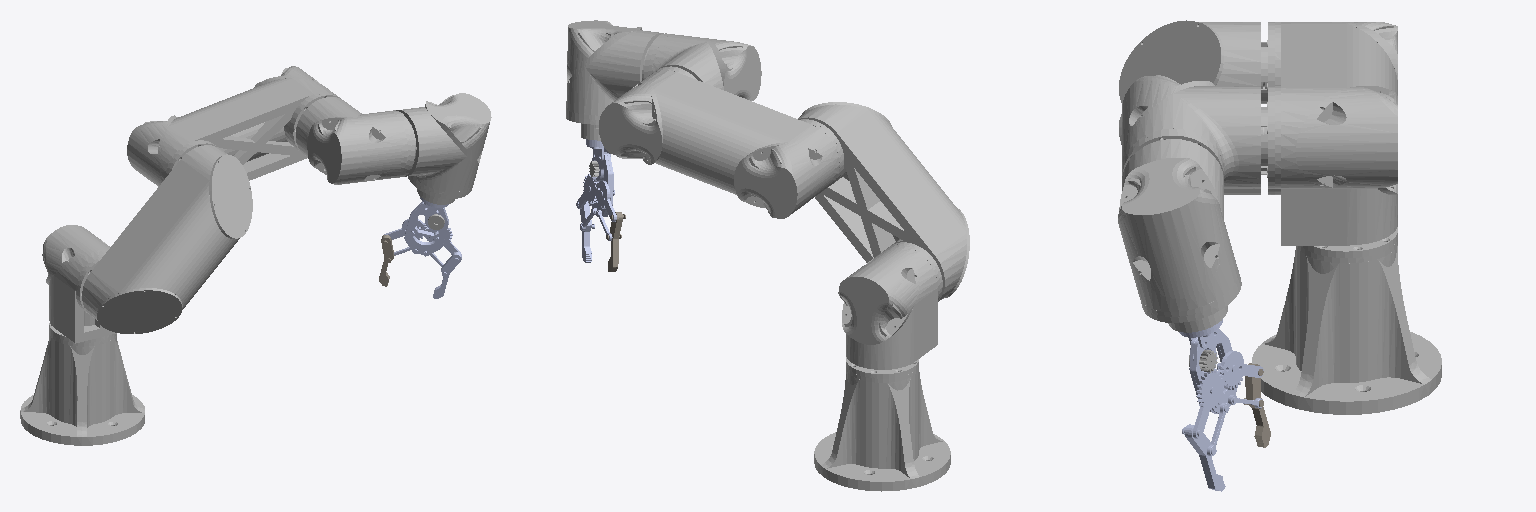
URDF robot description (robot):
<?xml version="1.0" encoding="utf-8"?>
<!-- This URDF was automatically created by SolidWorks to URDF Exporter! Originally created by [author] ([email redacted]) 
     Commit Version: 1.6.0-1-g15f4949  Build Version: 1.6.7594.29634
     For more information, please see http://wiki.ros.org/sw_urdf_exporter -->
<robot name="robot">

  <!-- ======================================================================== -->
  <!-- 1. THÊM LINK WORLD ĐỂ CỐ ĐỊNH ROBOT                                      -->
  <!-- ======================================================================== -->
  <link name="world"/>

  <joint name="world_joint" type="fixed">
    <parent link="world"/>
    <child link="base_link"/>
    <origin xyz="0 0 0" rpy="0 0 0"/>
  </joint>

  <!-- ======================================================================== -->
  <!-- 2. CÁC LINK VÀ JOINT CỦA ROBOT (GIỮ NGUYÊN TỪ SOLIDWORKS)                -->
  <!-- ======================================================================== -->
  <link name="base_link">
    <inertial>
      <origin xyz="6.6779E-08 1.1711E-07 0.051416" rpy="0 0 0" />
      <mass value="0.35438" />
      <inertia ixx="0.00044121" ixy="-5.4847E-09" ixz="2.2395E-10" iyy="0.00044121" iyz="3.7442E-10" izz="0.0004697" />
    </inertial>
    <visual>
      <origin xyz="0 0 0" rpy="0 0 0" />
      <geometry>
        <mesh filename="package://my_arm_robot/meshes/base_link.STL" />
      </geometry>
      <material name="">
        <color rgba="0.75294 0.75294 0.75294 1" />
      </material>
    </visual>
    <collision>
      <origin xyz="0 0 0" rpy="0 0 0" />
      <geometry>
        <mesh filename="package://my_arm_robot/meshes/base_link.STL" />
      </geometry>
    </collision>
  </link>

  <link name="Link_1">
    <inertial>
      <origin xyz="-2.7456E-07 -0.019979 0.049934" rpy="0 0 0" />
      <mass value="0.29405" />
      <inertia ixx="0.00018379" ixy="-7.5691E-10" ixz="-2.3852E-11" iyy="0.00020053" iyz="2.2396E-05" izz="0.0002036" />
    </inertial>
    <visual>
      <origin xyz="0 0 0" rpy="0 0 0" />
      <geometry>
        <mesh filename="package://my_arm_robot/meshes/Link_1.STL" />
      </geometry>
      <material name="">
        <color rgba="0.75294 0.75294 0.75294 1" />
      </material>
    </visual>
    <collision>
      <origin xyz="0 0 0" rpy="0 0 0" />
      <geometry>
        <mesh filename="package://my_arm_robot/meshes/Link_1.STL" />
      </geometry>
    </collision>
  </link>

  <joint name="Link_1_joint" type="revolute">
    <origin xyz="0 0 0.109" rpy="0 0 0" />
    <parent link="base_link" />
    <child link="Link_1" />
    <axis xyz="0 0 1" />
    <limit lower="-3.14" upper="3.14" effort="100" velocity="0" />
  </joint>

  <link name="Link_2">
    <inertial>
      <origin xyz="0.064128 -0.066552 0.004546" rpy="0 0 0" />
      <mass value="0.56692" />
      <inertia ixx="0.0010005" ixy="0.00048662" ixz="2.4422E-10" iyy="0.00096441" iyz="1.0158E-10" izz="0.0015033" />
    </inertial>
    <visual>
      <origin xyz="0 0 0" rpy="0 0 0" />
      <geometry>
        <mesh filename="package://my_arm_robot/meshes/Link_2.STL" />
      </geometry>
      <material name="">
        <color rgba="0.75294 0.75294 0.75294 1" />
      </material>
    </visual>
    <collision>
      <origin xyz="0 0 0" rpy="0 0 0" />
      <geometry>
        <mesh filename="package://my_arm_robot/meshes/Link_2.STL" />
      </geometry>
    </collision>
  </link>

  <joint name="Link_2_joint" type="revolute">
    <origin xyz="0 -0.0715 0.0645" rpy="1.5708 -1.5708 0" />
    <parent link="Link_1" />
    <child link="Link_2" />
    <axis xyz="0 0 -1" />
    <limit lower="-1.57" upper="1.57" effort="100" velocity="0" />
  </joint>

  <link name="Link_3">
    <inertial>
      <origin xyz="0.074283 -0.010346 0.058914" rpy="0 0 0" />
      <mass value="0.28134" />
      <inertia ixx="0.00031192" ixy="4.1644E-05" ixz="-2.3689E-09" iyy="0.00060517" iyz="-9.6672E-09" izz="0.00065885" />
    </inertial>
    <visual>
      <origin xyz="0 0 0" rpy="0 0 0" />
      <geometry>
        <mesh filename="package://my_arm_robot/meshes/Link_3.STL" />
      </geometry>
      <material name="">
        <color rgba="0.75294 0.75294 0.75294 1" />
      </material>
    </visual>
    <collision>
      <origin xyz="0 0 0" rpy="0 0 0" />
      <geometry>
        <mesh filename="package://my_arm_robot/meshes/Link_3.STL" />
      </geometry>
    </collision>
  </link>

  <joint name="Link_3_joint" type="revolute">
    <origin xyz="0.10408 -0.10802 0" rpy="-3.1416 0 -1.5708" />
    <parent link="Link_2" />
    <child link="Link_3" />
    <axis xyz="0 0 1" />
    <limit lower="-2.5" upper="2.5" effort="100" velocity="0" />
  </joint>

  <link name="Link_4">
    <inertial>
      <origin xyz="0.0012985 -0.00015327 -0.0071039" rpy="0 0 0" />
      <mass value="0.24763" />
      <inertia ixx="0.0001477" ixy="-4.322E-07" ixz="-2.5263E-05" iyy="0.00014409" iyz="2.9843E-06" izz="0.00015439" />
    </inertial>
    <visual>
      <origin xyz="0 0 0" rpy="0 0 0" />
      <geometry>
        <mesh filename="package://my_arm_robot/meshes/Link_4.STL" />
      </geometry>
      <material name="">
        <color rgba="0.75294 0.75294 0.75294 1" />
      </material>
    </visual>
    <collision>
      <origin xyz="0 0 0" rpy="0 0 0" />
      <geometry>
        <mesh filename="package://my_arm_robot/meshes/Link_4.STL" />
      </geometry>
    </collision>
  </link>

  <joint name="Link_4_joint" type="revolute">
    <origin xyz="0.14857 -0.020684 0" rpy="3.1416 0 0" />
    <parent link="Link_3" />
    <child link="Link_4" />
    <axis xyz="0 0 -1" />
    <limit lower="-3.14" upper="3.14" effort="100" velocity="0" />
  </joint>

  <link name="Link_5">
    <inertial>
      <origin xyz="0.0013072 1.0291E-07 -0.0071052" rpy="0 0 0" />
      <mass value="0.24762" />
      <inertia ixx="0.00014775" ixy="5.8014E-10" ixz="-2.5434E-05" iyy="0.00014403" iyz="7.31E-10" izz="0.00015439" />
    </inertial>
    <visual>
      <origin xyz="0 0 0" rpy="0 0 0" />
      <geometry>
        <mesh filename="package://my_arm_robot/meshes/Link_5.STL" />
      </geometry>
      <material name="">
        <color rgba="0.75294 0.75294 0.75294 1" />
      </material>
    </visual>
    <collision>
      <origin xyz="0 0 0" rpy="0 0 0" />
      <geometry>
        <mesh filename="package://my_arm_robot/meshes/Link_5.STL" />
      </geometry>
    </collision>
  </link>

  <joint name="Link_5_joint" type="revolute">
    <origin xyz="0.071006 -0.008387 0.047" rpy="-1.5708 0.23999 -1.6884" />
    <parent link="Link_4" />
    <child link="Link_5" />
    <axis xyz="0 0 -1" />
    <limit lower="-2" upper="2" effort="100" velocity="0" />
  </joint>

  <link name="Link_6">
    <inertial>
      <origin xyz="-1.5424E-08 -3.6987E-07 -0.037505" rpy="0 0 0" />
      <mass value="0.13168" />
      <inertia ixx="4.0898E-05" ixy="-6.0382E-10" ixz="-2.0928E-11" iyy="4.0886E-05" iyz="-4.3595E-10" izz="4.6676E-05" />
    </inertial>
    <visual>
      <origin xyz="0 0 0" rpy="0 0 0" />
      <geometry>
        <mesh filename="package://my_arm_robot/meshes/Link_6.STL" />
      </geometry>
      <material name="">
        <color rgba="0.75294 0.75294 0.75294 1" />
      </material>
    </visual>
    <collision>
      <origin xyz="0 0 0" rpy="0 0 0" />
      <geometry>
        <mesh filename="package://my_arm_robot/meshes/Link_6.STL" />
      </geometry>
    </collision>
  </link>

  <joint name="Link_6_joint" type="revolute">
    <origin xyz="0.0715 0 0.047" rpy="1.5708 -0.54029 1.5708" />
    <parent link="Link_5" />
    <child link="Link_6" />
    <axis xyz="0 0 -1" />
    <limit lower="-3.14" upper="3.14" effort="100" velocity="0" />
  </joint>

  <link name="Gap_base">
    <inertial>
      <origin xyz="0.0010196 -7.3453E-05 0.02853" rpy="0 0 0" />
      <mass value="0.021278" />
      <inertia ixx="5.4085E-06" ixy="-4.604E-15" ixz="-9.6308E-16" iyy="3.6139E-06" iyz="-9.1731E-08" izz="2.6224E-06" />
    </inertial>
    <visual>
      <origin xyz="0 0 0" rpy="0 0 0" />
      <geometry>
        <mesh filename="package://my_arm_robot/meshes/Gap_base.STL" />
      </geometry>
      <material name="">
        <color rgba="0.79216 0.81961 0.92941 1" />
      </material>
    </visual>
    <collision>
      <origin xyz="0 0 0" rpy="0 0 0" />
      <geometry>
        <mesh filename="package://my_arm_robot/meshes/Gap_base.STL" />
      </geometry>
    </collision>
  </link>

  <joint name="Gap_base_joint" type="fixed">
    <origin xyz="0 0 0.0075" rpy="0 0 0.055716" />
    <parent link="Link_6" />
    <child link="Gap_base" />
    <axis xyz="0 0 0" />
  </joint>

  <link name="Gap_motor">
    <inertial>
      <origin xyz="2.9875E-05 0.0032394 -0.019699" rpy="0 0 0" />
      <mass value="0.0050243" />
      <inertia ixx="2.115E-07" ixy="-8.3866E-10" ixz="1.2364E-11" iyy="1.2027E-07" iyz="1.2976E-09" izz="2.3067E-07" />
    </inertial>
    <visual>
      <origin xyz="0 0 0" rpy="0 0 0" />
      <geometry>
        <mesh filename="package://my_arm_robot/meshes/Gap_motor.STL" />
      </geometry>
      <material name="">
        <color rgba="0.75294 0.75294 0.75294 1" />
      </material>
    </visual>
    <collision>
      <origin xyz="0 0 0" rpy="0 0 0" />
      <geometry>
        <mesh filename="package://my_arm_robot/meshes/Gap_motor.STL" />
      </geometry>
    </collision>
  </link>

  <joint name="gripper_motor_joint" type="revolute">
    <origin xyz="0.00697 0.0075 0.0246" rpy="-1.5708 -1.5616 -1.5708" />
    <parent link="Gap_base" />
    <child link="Gap_motor" />
    <axis xyz="0 0 -1" />
    <limit lower="-1" upper="1" effort="50" velocity="2" />
  </joint>

  <link name="left_finger">
    <inertial>
      <origin xyz="0.022376 -0.0034492 -0.007" rpy="0 0 0" />
      <mass value="0.0030919" />
      <inertia ixx="8.1297E-08" ixy="1.9967E-07" ixz="4.9631E-24" iyy="8.4884E-07" iyz="1.3235E-23" izz="9.1515E-07" />
    </inertial>
    <visual>
      <origin xyz="0 0 0" rpy="0 0 0" />
      <geometry>
        <mesh filename="package://my_arm_robot/meshes/left_finger.STL" />
      </geometry>
      <material name="">
        <color rgba="0.79216 0.81961 0.92941 1" />
      </material>
    </visual>
    <collision>
      <origin xyz="0 0 0" rpy="0 0 0" />
      <geometry>
        <mesh filename="package://my_arm_robot/meshes/left_finger.STL" />
      </geometry>
    </collision>
  </link>

  <joint name="left_finger_joint" type="revolute">
    <origin xyz="0.00697 0.037986 0.063612" rpy="-1.5708 -1.1862 -1.5708" />
    <parent link="Gap_base" />
    <child link="left_finger" />
    <axis xyz="0 0 -1" />
    <limit lower="-0.8" upper="0.8" effort="100" velocity="2.0" />
  </joint>

  <link name="right_finger">
    <inertial>
      <origin xyz="0.022376 0.0034492 -0.007" rpy="0 0 0" />
      <mass value="0.0030919" />
      <inertia ixx="8.1297E-08" ixy="-1.9967E-07" ixz="6.7829E-23" iyy="8.4884E-07" iyz="2.647E-23" izz="9.1515E-07" />
    </inertial>
    <visual>
      <origin xyz="0 0 0" rpy="0 0 0" />
      <geometry>
        <mesh filename="package://my_arm_robot/meshes/right_finger.STL" />
      </geometry>
      <material name="">
        <color rgba="0.64706 0.61961 0.58431 1" />
      </material>
    </visual>
    <collision>
      <origin xyz="0 0 0" rpy="0 0 0" />
      <geometry>
        <mesh filename="package://my_arm_robot/meshes/right_finger.STL" />
      </geometry>
    </collision>
  </link>

  <joint name="right_finger_joint" type="revolute">
    <origin xyz="0.00697 -0.037923 0.063692" rpy="1.5708 -1.1862 1.5708" />
    <parent link="Gap_base" />
    <child link="right_finger" />
    <axis xyz="0 0 -1" />
    <limit lower="-0.8" upper="0.8" effort="100" velocity="2.0" />
    <mimic joint="left_finger_joint" multiplier="-1" offset="0" />
  </joint>

  <!-- ======================================================================== -->
  <!-- 3. CẤU HÌNH ROS2 CONTROL (MOCK HARDWARE)                                 -->
  <!-- ======================================================================== -->
  <ros2_control name="RobotSystem" type="system">
    <hardware>
      <!-- Dùng Mock Hardware để test logic controller mà không cần robot thật -->
      <plugin>mock_components/GenericSystem</plugin>
      <!-- Tính toán động học tích phân (Position += Velocity * dt) -->
      <param name="calculate_dynamics">true</param>
    </hardware>

    <!-- 6 Khớp của Robot Arm: Điều khiển VẬN TỐC (Velocity) cho bài toán Inverse Kinematics -->
    <joint name="Link_1_joint">
      <command_interface name="velocity"/>
      <state_interface name="position"/>
      <state_interface name="velocity"/>
    </joint>
    
    <joint name="Link_2_joint">
      <command_interface name="velocity"/>
      <state_interface name="position"/>
      <state_interface name="velocity"/>
    </joint>

    <joint name="Link_3_joint">
      <command_interface name="velocity"/>
      <state_interface name="position"/>
      <state_interface name="velocity"/>
    </joint>

    <joint name="Link_4_joint">
      <command_interface name="velocity"/>
      <state_interface name="position"/>
      <state_interface name="velocity"/>
    </joint>

    <joint name="Link_5_joint">
      <command_interface name="velocity"/>
      <state_interface name="position"/>
      <state_interface name="velocity"/>
    </joint>

    <joint name="Link_6_joint">
      <command_interface name="velocity"/>
      <state_interface name="position"/>
      <state_interface name="velocity"/>
    </joint>

    <!-- Khớp kẹp (Gripper): Điều khiển VỊ TRÍ (Position) -->
    <!-- Thường dùng cho Gripper Action Controller -->
    
    <joint name="gripper_motor_joint">
      <command_interface name="position"/>
      <state_interface name="position"/>
      <state_interface name="velocity"/>
    </joint>

    <joint name="left_finger_joint">
      <command_interface name="position"/>
      <state_interface name="position"/>
      <state_interface name="velocity"/>
    </joint>
    <!-- right_finger_joint là khớp mimic nên không cần control trực tiếp, state publisher sẽ tự tính -->

  </ros2_control>

</robot>

--- Facts derived from the render (not from the file) ---
Views: 3 orthographic renders of the robot side by side, from view 1: azimuth 30°, elevation 25°; view 2: azimuth 150°, elevation 25°; view 3: azimuth 270°, elevation 25°.
Model robot with 12 links and 11 joints (9 revolute, 2 fixed), rooted at world, posed every joint at zero.
Links seen in each view (by area): view 1: Link_2, Link_3, base_link, Link_4, Link_5, Link_1, Gap_base, Link_6; view 2: Link_3, Link_2, base_link, Link_1, Link_5, Link_4, Gap_base, Link_6, right_finger; view 3: base_link, Link_3, Link_5, Link_4, Link_2, Link_1, Gap_base, Link_6, left_finger, right_finger.
Link boxes in pixels (<box>): Link_2: <box>82,140,252,333</box>; Link_3: <box>127,66,335,186</box>; base_link: <box>20,323,144,445</box>; Link_4: <box>289,92,407,184</box>; Link_5: <box>389,93,491,191</box>; Link_1: <box>42,225,116,343</box>; Gap_base: <box>384,197,460,266</box>; Link_6: <box>408,176,473,204</box>; Link_3: <box>599,70,839,218</box>; Link_2: <box>798,102,969,301</box>; base_link: <box>814,357,950,491</box>; Link_1: <box>838,242,942,369</box>; Link_5: <box>566,20,672,115</box>; Link_4: <box>649,34,761,100</box>; Gap_base: <box>577,139,616,240</box>; Link_6: <box>566,109,600,140</box>; right_finger: <box>606,212,625,271</box>; base_link: <box>1252,227,1441,414</box>; Link_3: <box>1281,22,1397,188</box>; Link_5: <box>1118,129,1238,311</box>; Link_4: <box>1122,75,1280,188</box>; Link_2: <box>1119,20,1280,194</box>; Link_1: <box>1261,168,1397,245</box>; Gap_base: <box>1179,319,1263,455</box>; Link_6: <box>1141,270,1241,332</box>; left_finger: <box>1182,424,1225,491</box>; right_finger: <box>1244,363,1270,447</box>.
Bounding box of the posed robot: 0.478 × 0.2212 × 0.3345 m (x, y, z).
Meshes: 11 distinct files referenced, 11 mesh visuals loaded (11 binary STL).
